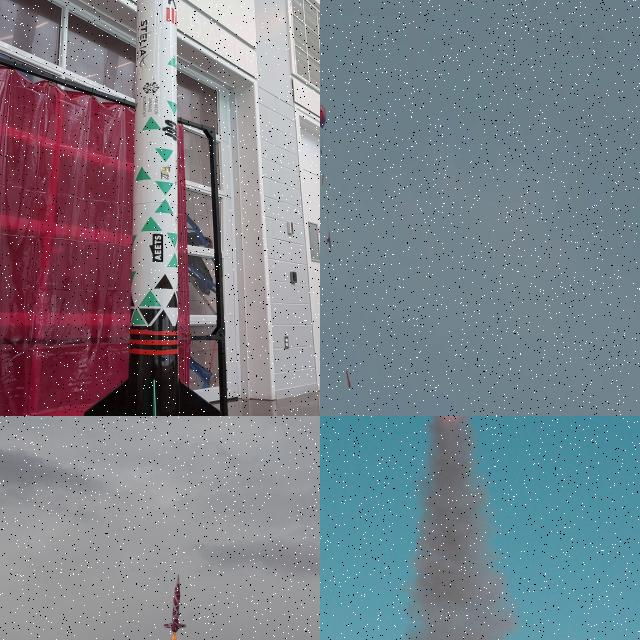Rocket: (83, 0, 222, 416), (163, 574, 187, 633), (346, 369, 352, 387)
